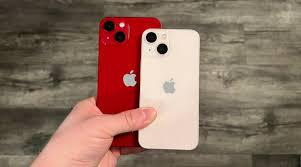Smartphone: (41, 94, 183, 167), (93, 14, 157, 149), (137, 30, 201, 150)
